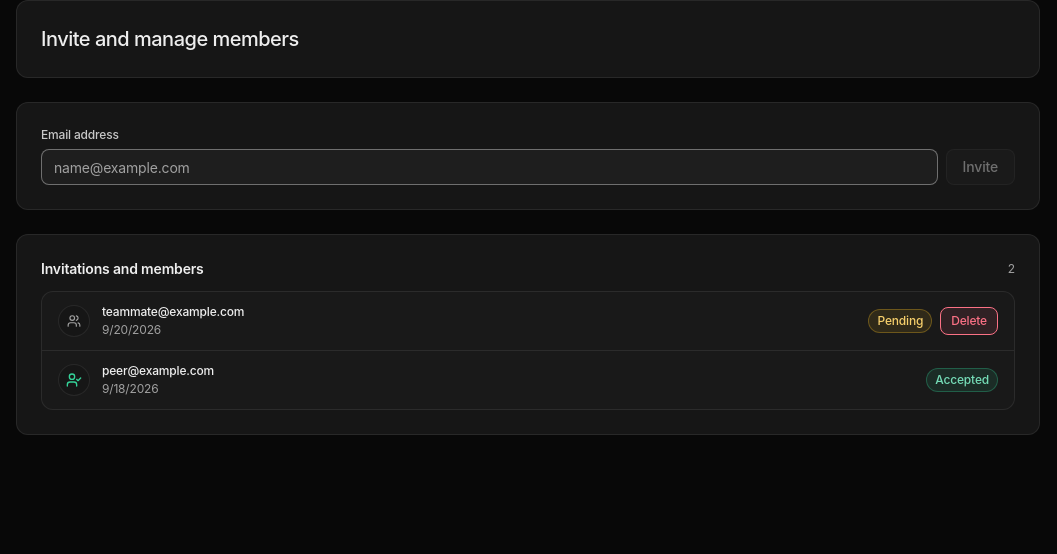
Test: MemberManagementView › displays link when inviting someone who already has a pending invitation
Type "teammate@example.com" into the field with placeholder "name@example.com" at (489, 167), box [41,149,938,185]
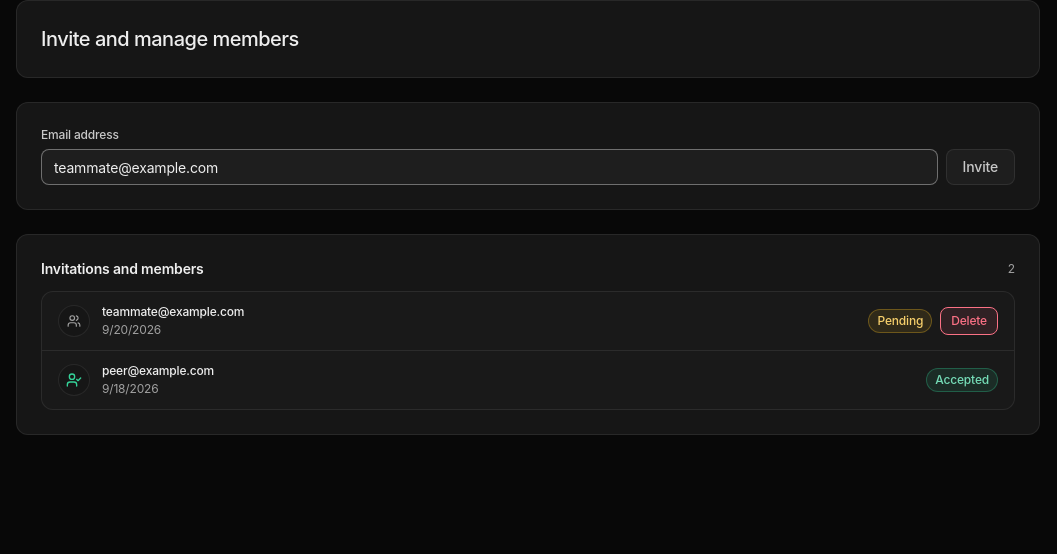
Click the button "Invite" at (980, 167), box [946,149,1015,185]
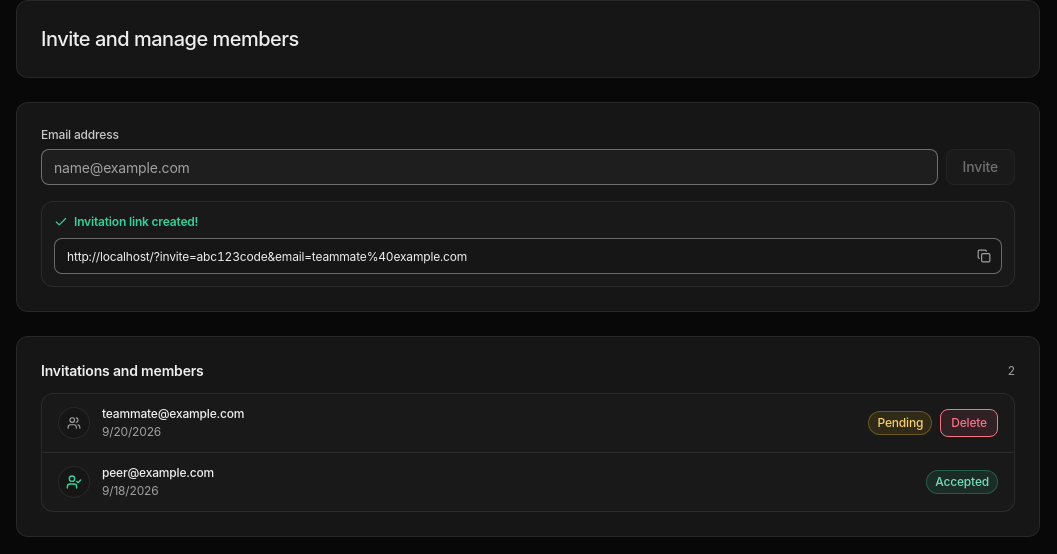
Check: the text "Invitation link created!" is shown, box [74,214,198,230]
Check: the field showing "invite=abc123code" is shown, box [54,238,1002,274]
